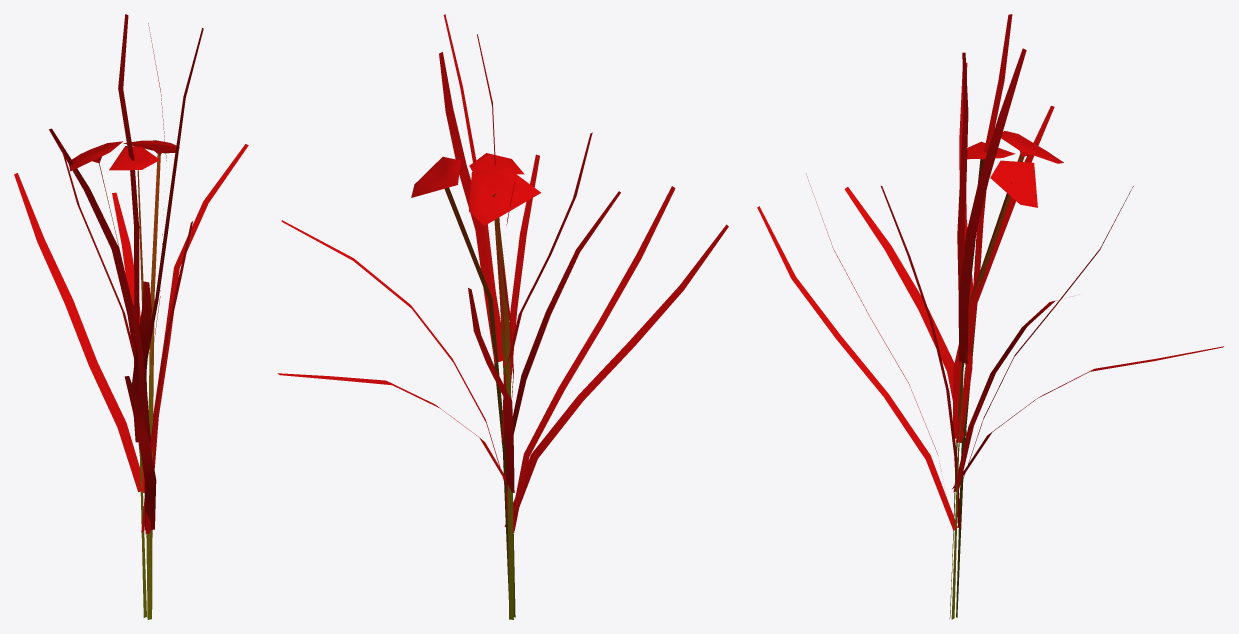
Rendered from Var16_LOD2.fbx.
3 views of the same model, side by side, from view 1: azimuth 30°, elevation 25°; view 2: azimuth 150°, elevation 25°; view 3: azimuth 270°, elevation 25° (orthographic). The views are drawn at different scales.
Parts seen in each view (by area): view 1: _3gdv_Var16_LOD2; view 2: _3gdv_Var16_LOD2; view 3: _3gdv_Var16_LOD2.
Boxes of the visible parts, box(x1,y1,x2,y2) form: _3gdv_Var16_LOD2: box(14, 14, 248, 619); _3gdv_Var16_LOD2: box(277, 14, 728, 619); _3gdv_Var16_LOD2: box(757, 14, 1223, 619).
Bounding box in the file's own units: 8.84 × 17.69 × 12.35.
